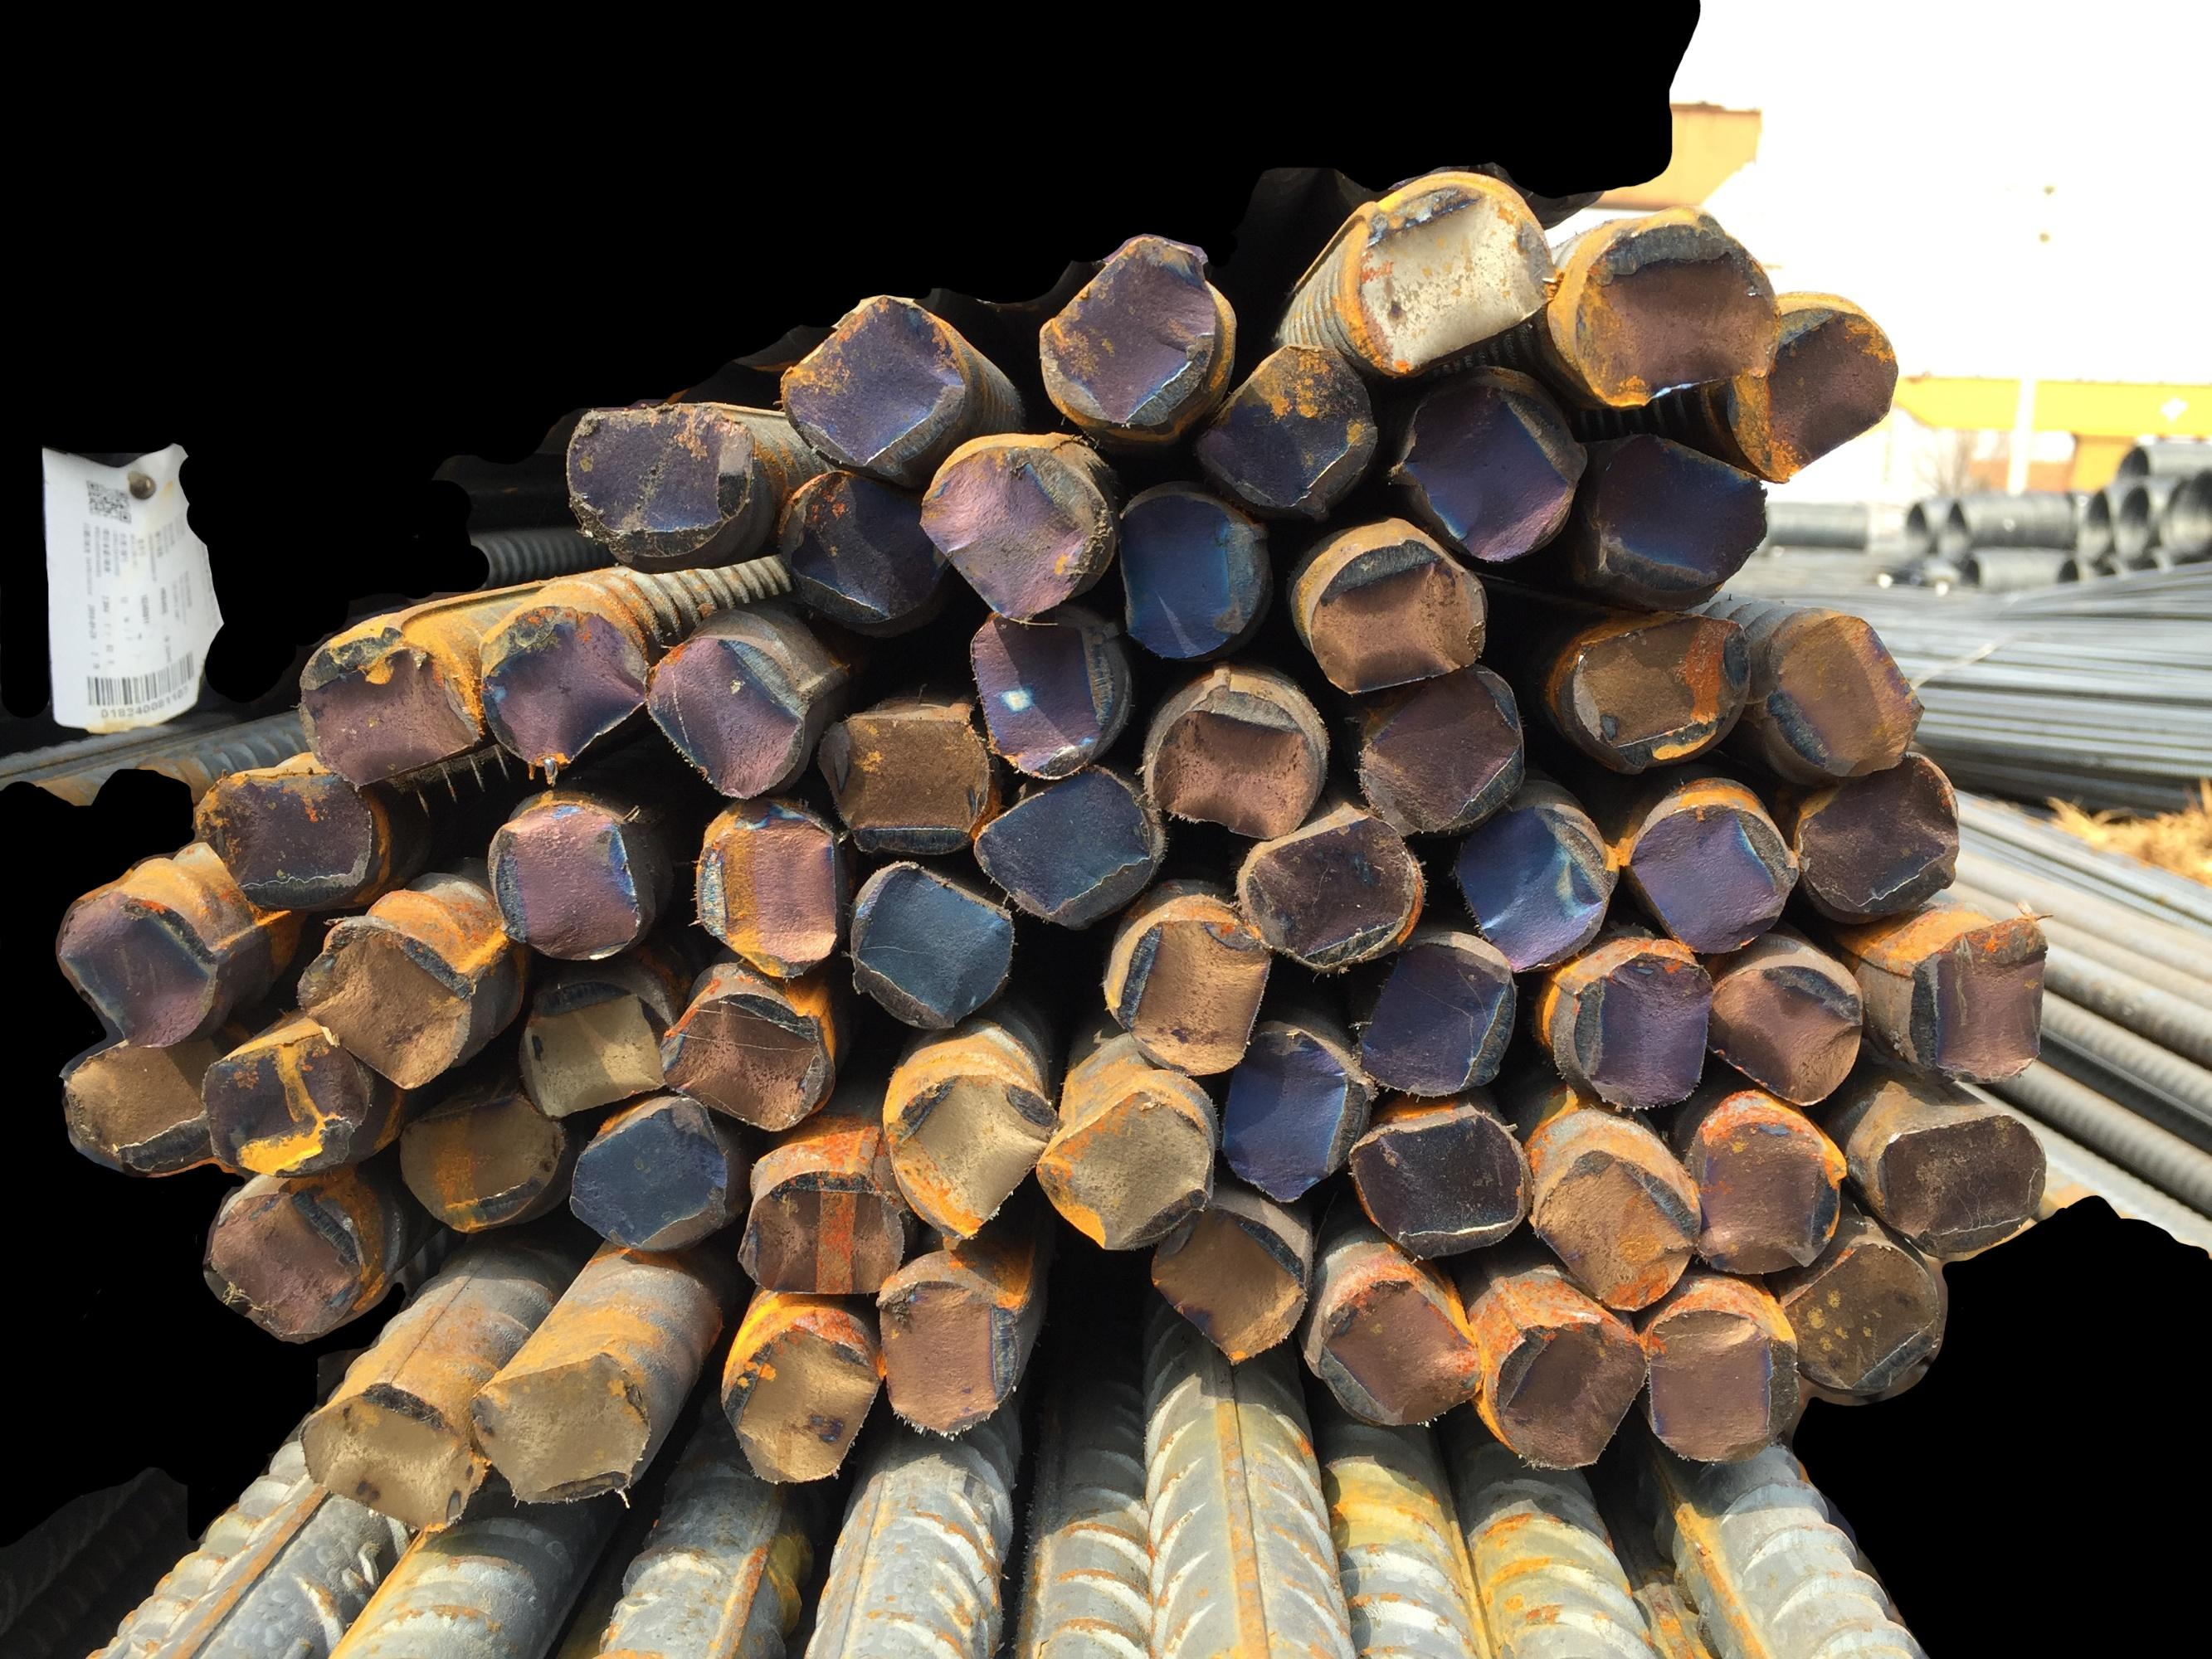bar: (1551, 209, 1788, 415), (1332, 169, 1555, 376), (1030, 228, 1234, 437), (767, 284, 976, 479), (913, 427, 1112, 624), (1384, 373, 1590, 558), (556, 392, 767, 572), (284, 908, 485, 1096), (1028, 1079, 1231, 1265), (1581, 420, 1780, 606), (1295, 521, 1496, 697), (187, 1166, 378, 1349), (1295, 1256, 1487, 1439), (467, 1349, 661, 1530), (877, 1061, 1065, 1246), (1733, 284, 1902, 490), (1196, 333, 1382, 518), (964, 760, 1164, 929), (1550, 603, 1754, 769), (1133, 1190, 1325, 1366), (1766, 1234, 1949, 1417), (180, 762, 390, 920), (1339, 1096, 1530, 1270), (835, 861, 1021, 1039), (1140, 673, 1328, 849), (1353, 653, 1527, 843), (44, 877, 221, 1061), (1229, 802, 1421, 971), (288, 620, 481, 788), (479, 786, 654, 971), (772, 464, 953, 640), (1095, 904, 1278, 1079), (626, 633, 812, 803), (1762, 596, 1931, 784), (1888, 904, 2057, 1093), (1680, 1107, 1855, 1288), (1614, 784, 1797, 957), (471, 599, 657, 769), (1351, 925, 1520, 1112), (689, 795, 852, 986), (1103, 472, 1265, 666), (1473, 1307, 1649, 1485), (966, 605, 1138, 786), (1790, 742, 1964, 920), (286, 1377, 483, 1534), (1208, 1011, 1361, 1209), (1550, 936, 1717, 1117), (718, 1314, 882, 1499), (1642, 1295, 1811, 1473), (1454, 793, 1621, 971), (1529, 1136, 1701, 1307), (563, 1096, 739, 1262), (200, 1019, 383, 1176), (394, 1087, 577, 1244), (655, 978, 835, 1136), (504, 955, 682, 1114), (865, 1272, 1027, 1445), (727, 1161, 917, 1307), (51, 1026, 234, 1178), (814, 695, 995, 847), (1700, 950, 1869, 1110), (1869, 1110, 2050, 1258)
